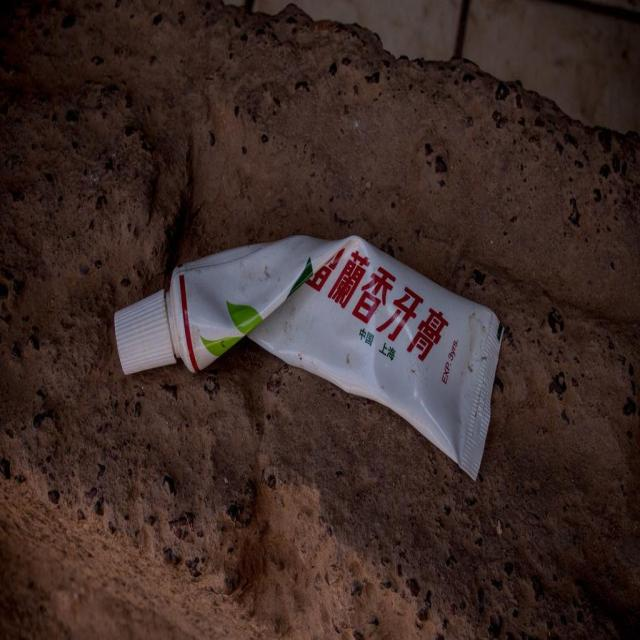Toothpaste: (112, 233, 504, 489)
